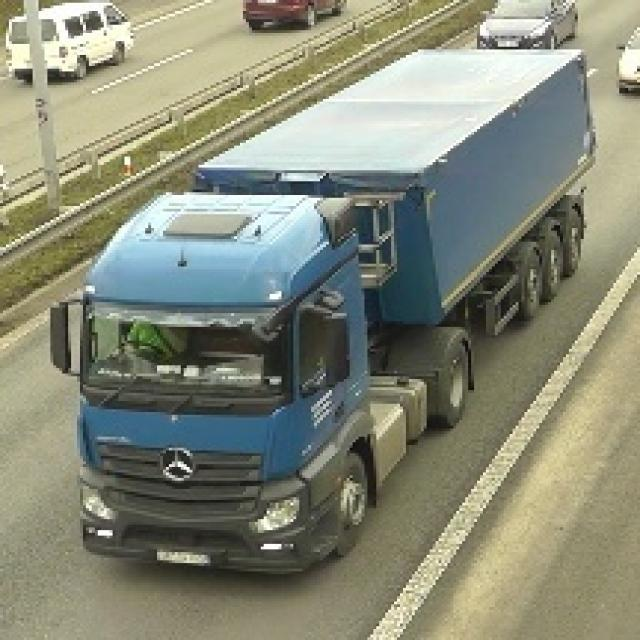SUV: (241, 0, 348, 36)
TRUCK: (68, 44, 611, 578), (4, 0, 136, 80)
